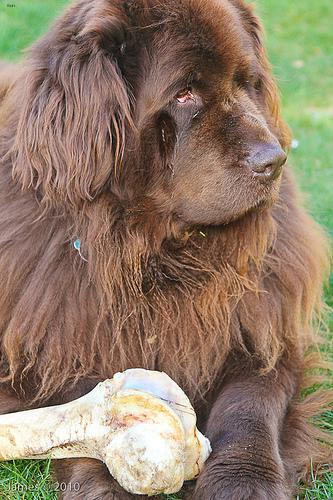dog-newfoundland: (12, 0, 288, 227)
